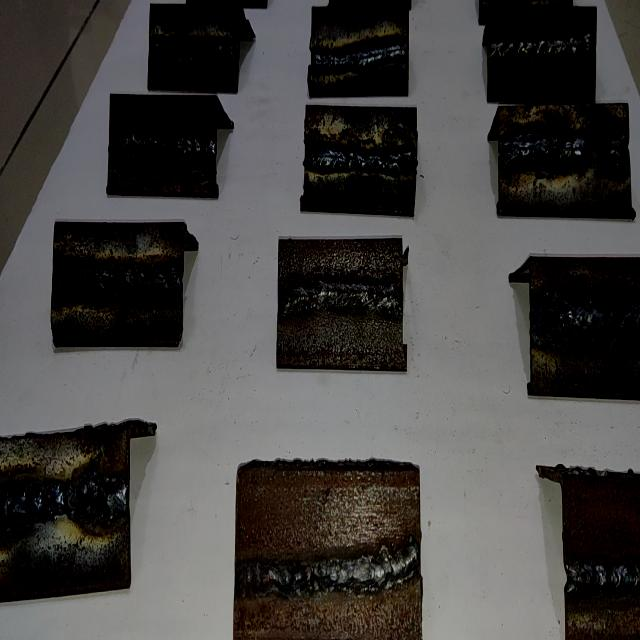Bad Weld: (2, 476, 126, 534), (531, 294, 640, 339), (53, 260, 183, 297), (500, 133, 630, 170), (306, 143, 416, 175), (109, 133, 216, 163), (150, 34, 239, 59)
Defect: (112, 134, 214, 165), (56, 470, 94, 526), (52, 254, 94, 303), (534, 292, 572, 344), (576, 128, 616, 175), (151, 30, 194, 63), (391, 143, 418, 180)
Good Weld: (235, 534, 418, 600), (279, 277, 401, 317), (310, 32, 407, 73), (490, 30, 595, 62), (567, 559, 640, 594)
